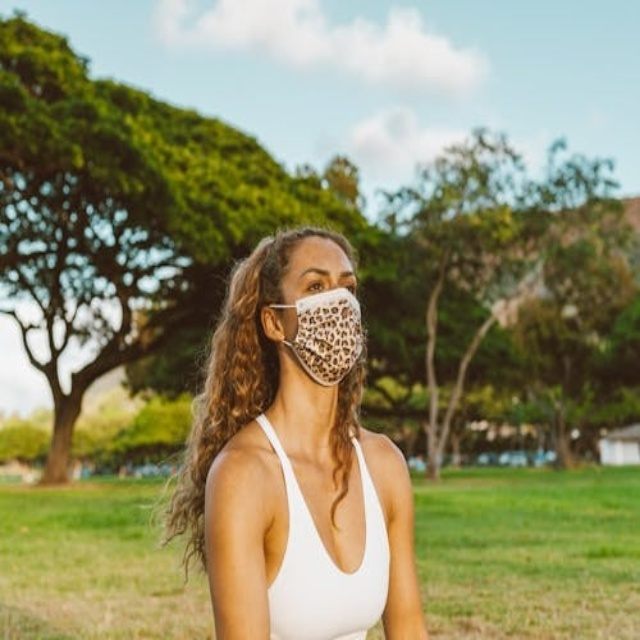Mascara: (268, 289, 364, 385)
Sin_gafas: (301, 264, 362, 298)
